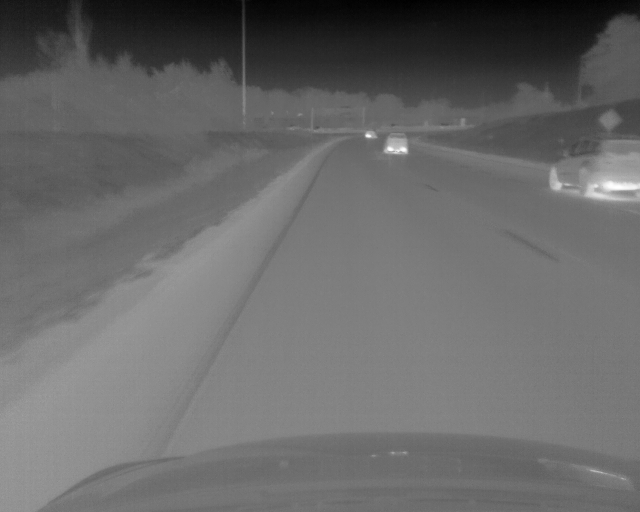car: (548, 137, 640, 198), (385, 132, 410, 153), (364, 129, 377, 138)
